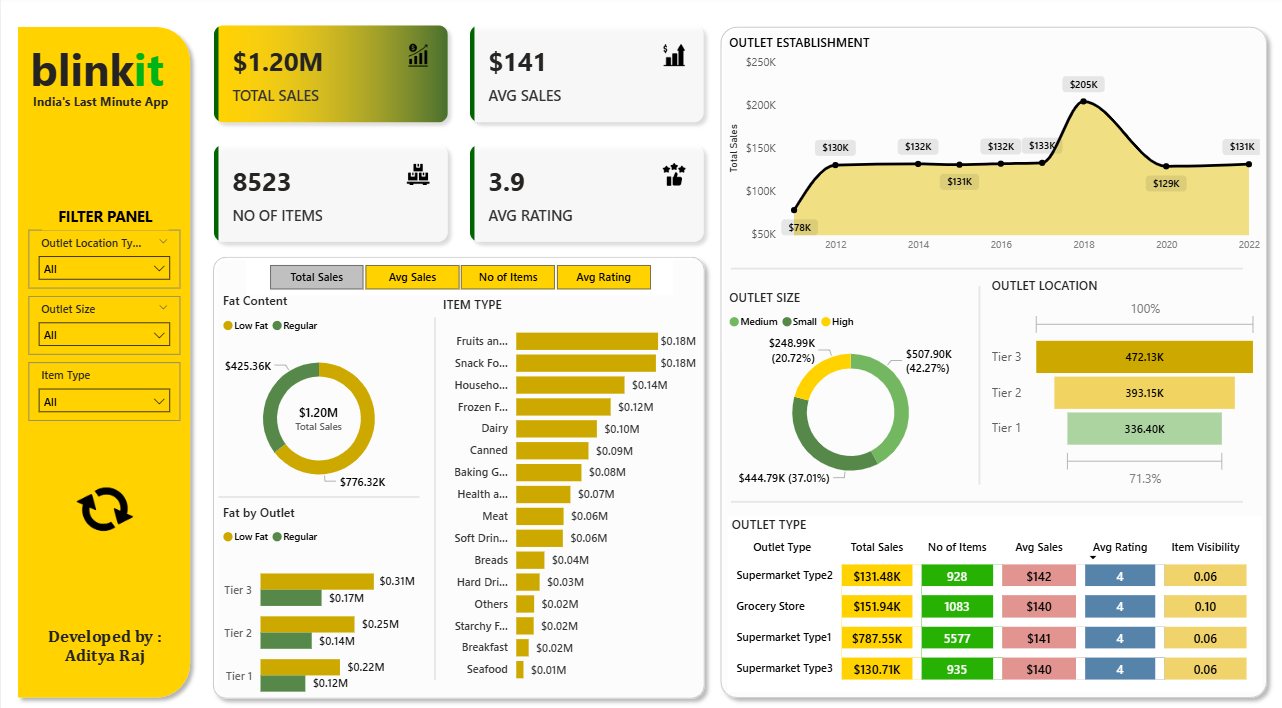

What the dashboard file says about the page in this screenshot:
{"tool":"powerbi","page":{"name":"Page 1","canvas":[1400,800],"ordinal":0},"visuals":[{"type":"shape","box":[9.5,24.5,205.9,749.8],"z":0},{"type":"textbox","box":[27.8,40.3,168.1,76.4],"z":1000},{"type":"textbox","box":[30.6,101.4,168.1,30.6],"z":2000},{"type":"cardVisual","fields":{"Data":["BlinkIT Grocery Data.Total Sales","BlinkIT Grocery Data.Avg Sales","BlinkIT Grocery Data.No of Items","BlinkIT Grocery Data.Avg Rating"]},"box":[215.3,15.3,569.4,270.8],"z":3000},{"type":"shape","box":[222.2,275,554.2,500],"z":4000},{"type":"donutChart","title":"Fat Content","fields":{"Y":["BlinkIT Grocery Data.Total Sales"],"Category":["BlinkIT Grocery Data.Item Fat Content"]},"box":[237.5,323.6,219.4,230.6],"z":5000},{"type":"slicer","fields":{"Values":["metrics.metrics"]},"box":[266.7,286.1,465.3,40.3],"z":6000},{"type":"cardVisual","fields":{"Data":["BlinkIT Grocery Data.Total Sales"]},"box":[295.8,419.4,101.4,81.9],"z":7000},{"type":"clusteredBarChart","title":"Fat by Outlet","fields":{"Y":["BlinkIT Grocery Data.Total Sales"],"Category":["BlinkIT Grocery Data.Outlet Location Type"],"Series":["BlinkIT Grocery Data.Item Fat Content"]},"box":[237.5,554.2,219.4,230.6],"z":8000},{"type":"shape","box":[237.5,526.4,219.4,40.3],"z":9000},{"type":"shape","box":[461.1,350,25,395.8],"z":10000},{"type":"barChart","title":"ITEM TYPE","fields":{"Y":["BlinkIT Grocery Data.Total Sales"],"Category":["BlinkIT Grocery Data.Item Type"]},"box":[477.8,327.8,286.1,431.9],"z":11000},{"type":"shape","box":[776.4,25,613.9,750],"z":12000},{"type":"lineChart","title":"OUTLET ESTABLISHMENT","fields":{"Category":["BlinkIT Grocery Data.Outlet Establishment Year"],"Y":["BlinkIT Grocery Data.Total Sales"]},"box":[788.9,40.3,588.9,247.2],"z":13000},{"type":"shape","box":[795.8,287.5,558.3,19.4],"z":14000},{"type":"donutChart","title":"OUTLET SIZE","fields":{"Y":["BlinkIT Grocery Data.Total Sales"],"Category":["BlinkIT Grocery Data.Outlet Size"]},"box":[788.9,319.4,275,225],"z":15000},{"type":"shape","box":[1051.4,316.7,31.9,216.7],"z":16000},{"type":"funnel","title":"OUTLET LOCATION","fields":{"Y":["Sum(BlinkIT Grocery Data.Sales)"],"Category":["BlinkIT Grocery Data.Outlet Location Type"]},"box":[1075,306.9,300,234.7],"z":17000},{"type":"shape","box":[795.8,541.7,558.3,20.8],"z":18000},{"type":"pivotTable","title":"OUTLET TYPE","fields":{"Values":["BlinkIT Grocery Data.Total Sales","BlinkIT Grocery Data.No of Items","BlinkIT Grocery Data.Avg Sales","BlinkIT Grocery Data.Avg Rating","Avg(BlinkIT Grocery Data.Item Visibility)"],"Rows":["BlinkIT Grocery Data.Outlet Type"]},"box":[791.7,566.7,583.3,191.7],"z":19000},{"type":"slicer","fields":{"Values":["BlinkIT Grocery Data.Outlet Location Type"]},"box":[30.6,255.6,165.3,63.9],"z":20000},{"type":"slicer","fields":{"Values":["BlinkIT Grocery Data.Outlet Size"]},"box":[30.6,327.8,165.3,63.9],"z":21000},{"type":"slicer","fields":{"Values":["BlinkIT Grocery Data.Item Type"]},"box":[30.6,400,165.3,63.9],"z":22000},{"type":"textbox","box":[44.4,223.6,137.5,31.9],"z":23000},{"type":"textbox","box":[37.5,681.9,150,63.9],"z":24000},{"type":"image","title":"RESET","box":[38,502.2,150.7,115.7],"z":24001}]}

Visuals, with their boxes on the page's 1400x800 design canvas (x1, y1, x2, y2). These are canvas units, not pixel positions in the 1282x708 screenshot, which may show the page scaled, cropped or inside an application window:
shape: (10, 24, 215, 774)
textbox: (28, 40, 196, 117)
textbox: (31, 101, 199, 132)
cardVisual - BlinkIT Grocery Data.Total Sales x BlinkIT Grocery Data.Avg Sales: (215, 15, 785, 286)
shape: (222, 275, 776, 775)
"Fat Content" donutChart: (238, 324, 457, 554)
slicer - metrics.metrics: (267, 286, 732, 326)
cardVisual - BlinkIT Grocery Data.Total Sales: (296, 419, 397, 501)
"Fat by Outlet" clusteredBarChart: (238, 554, 457, 785)
shape: (238, 526, 457, 567)
shape: (461, 350, 486, 746)
"ITEM TYPE" barChart: (478, 328, 764, 760)
shape: (776, 25, 1390, 775)
"OUTLET ESTABLISHMENT" lineChart: (789, 40, 1378, 288)
shape: (796, 288, 1354, 307)
"OUTLET SIZE" donutChart: (789, 319, 1064, 544)
shape: (1051, 317, 1083, 533)
"OUTLET LOCATION" funnel: (1075, 307, 1375, 542)
shape: (796, 542, 1354, 562)
"OUTLET TYPE" pivotTable: (792, 567, 1375, 758)
slicer - BlinkIT Grocery Data.Outlet Location Type: (31, 256, 196, 320)
slicer - BlinkIT Grocery Data.Outlet Size: (31, 328, 196, 392)
slicer - BlinkIT Grocery Data.Item Type: (31, 400, 196, 464)
textbox: (44, 224, 182, 256)
textbox: (38, 682, 188, 746)
"RESET" image: (38, 502, 189, 618)
